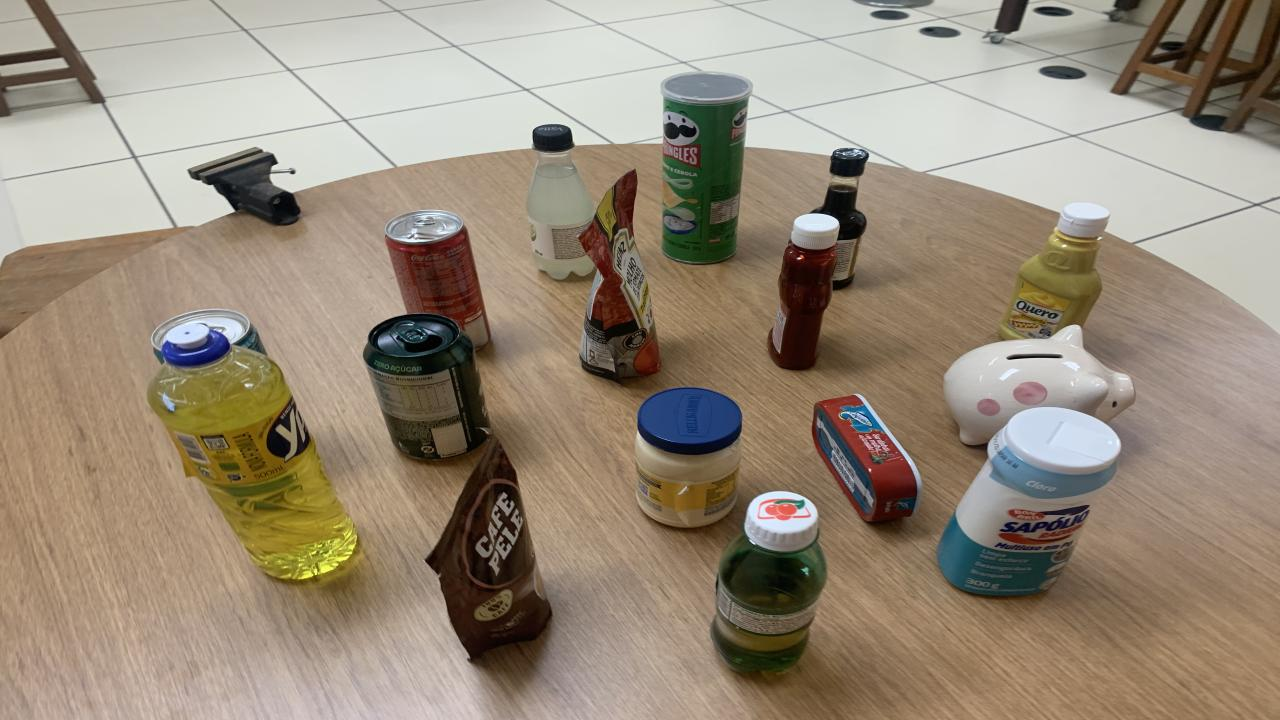Cleaner-Cleanup_Items: (938, 407, 1120, 596)
Coffee-Pantry_Items: (425, 437, 552, 658)
Coke-Drinks: (385, 210, 490, 349)
Detergent-Cleanup_Items: (148, 322, 358, 579)
English_Sauce-Pantry_Items: (815, 148, 868, 289)
Guarana-Drinks: (710, 491, 828, 673)
Guarana_Can-Drinks: (362, 313, 490, 459)
Ketchup-Pantry_Items: (768, 214, 840, 369)
Mayonnaise-Pantry_Items: (635, 388, 742, 527)
Mustard-Pantry_Items: (1000, 202, 1110, 339)
Pig_Safe-Miscellaneous: (942, 324, 1135, 444)
Pringles-Snacks: (660, 71, 752, 264)
Soda-Drinks: (528, 124, 595, 279)
Tea-Drinks: (152, 309, 268, 362)
Tomato_Sauce-Pantry_Items: (580, 171, 660, 382)
Tuna_Can-Pantry_Items: (812, 394, 922, 521)
